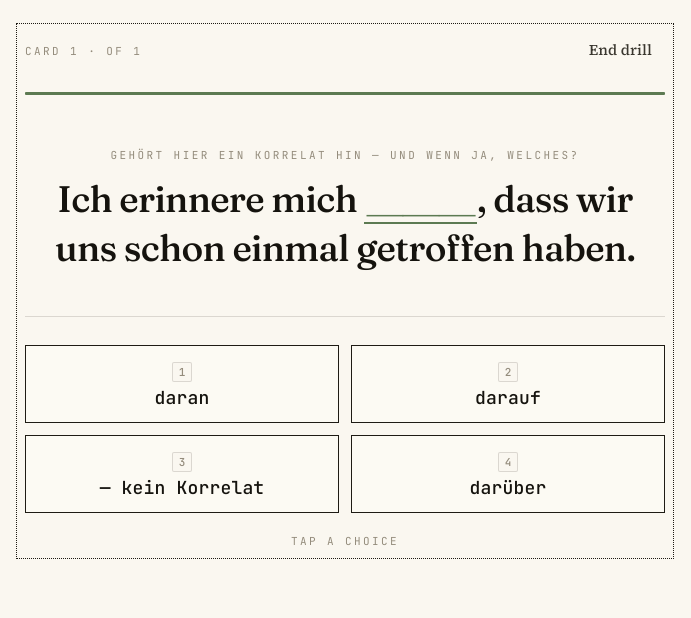
Scenario: KorrelatRunner — smoke tests › accepts the compound as correct for an optional item too
Click the button with class "choice" showing "1 daran": click(182, 384) [25, 345, 339, 423]
(page scrolled)
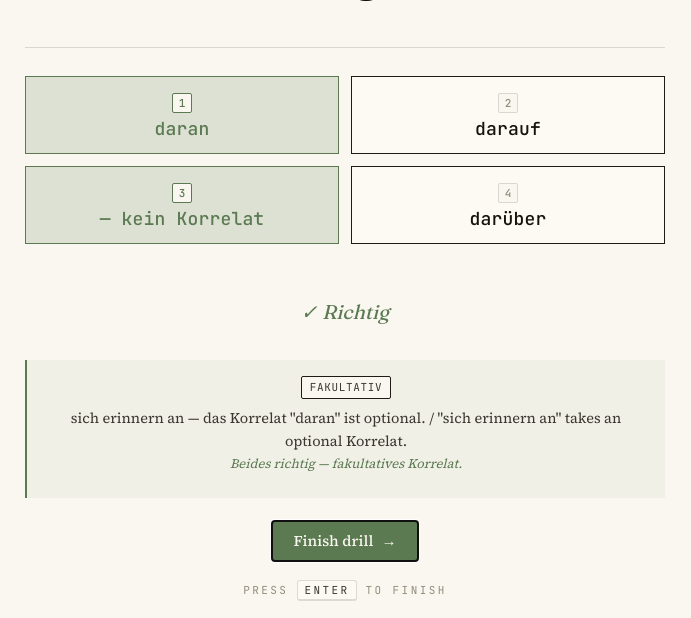
Expected: the text "✓ Richtig" is shown, [301, 296, 389, 328]
